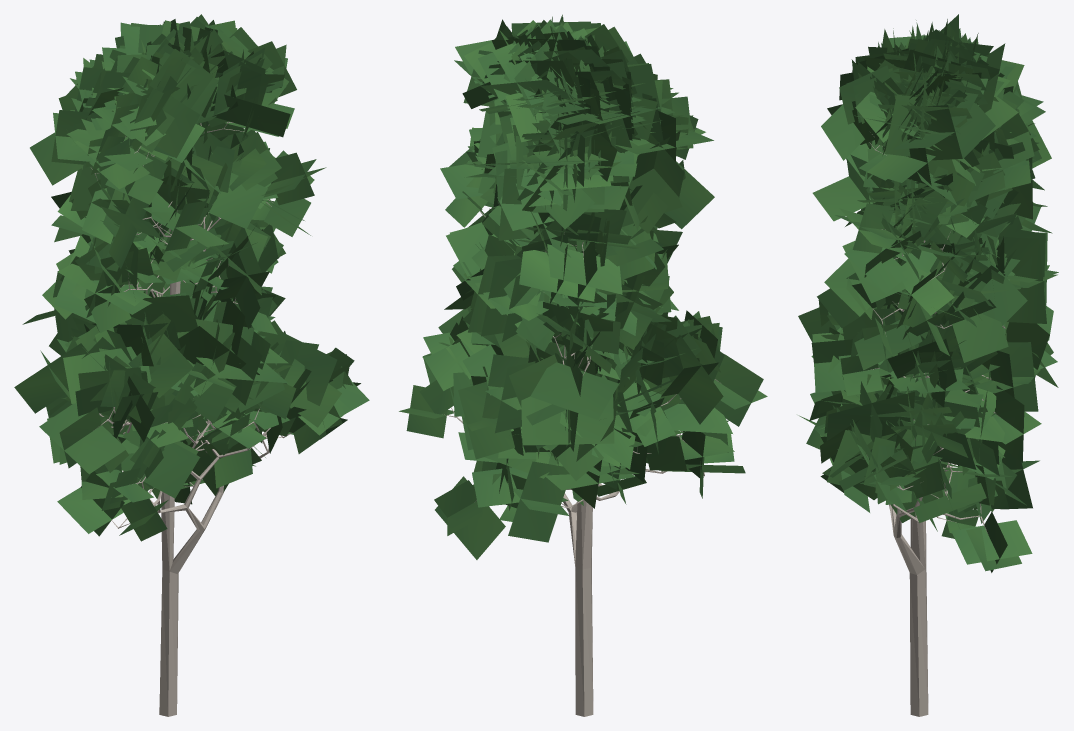
File: tree_0.dae
3 views of the same model, side by side, from view 1: azimuth 30°, elevation 25°; view 2: azimuth 150°, elevation 25°; view 3: azimuth 270°, elevation 25° (orthographic).
Parts seen in each view (by area): view 1: node; view 2: node; view 3: node.
Part boxes in pixels (x1,y1,x2,y2): node: [14, 14, 369, 716]; node: [399, 14, 767, 716]; node: [798, 14, 1058, 716].
Bounding box in the file's own units: 6433 × 13027 × 4501.
